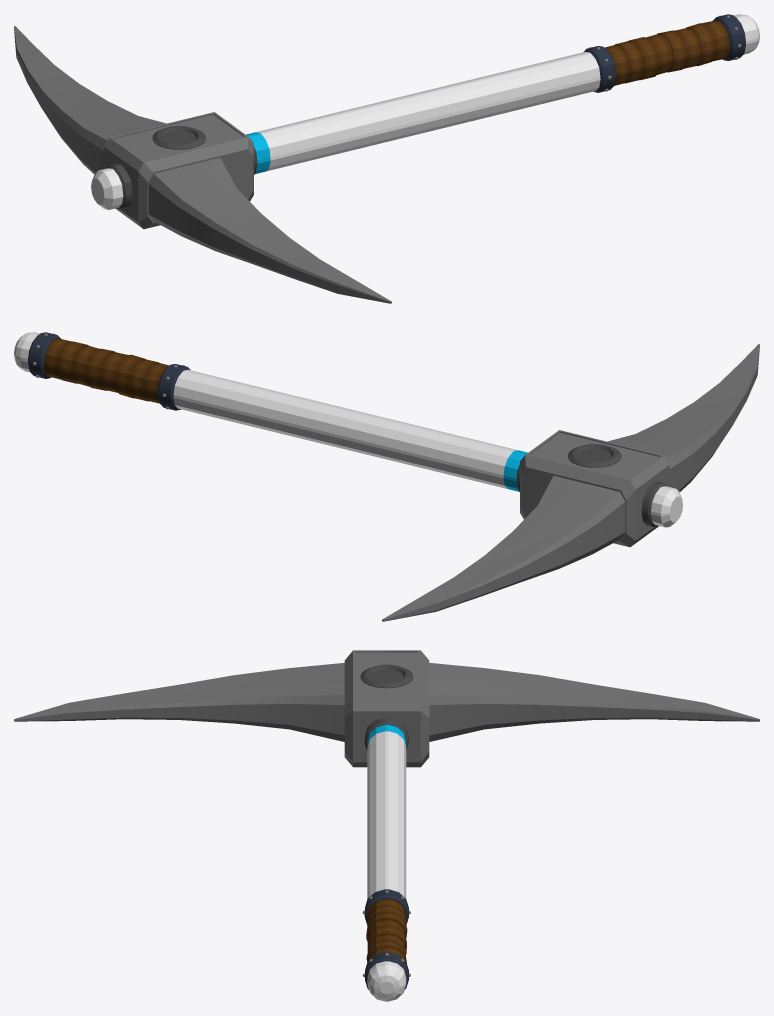
File: Pickaxe.fbx
3 renders of one model, top to bottom at view 1: azimuth 30°, elevation 25°; view 2: azimuth 150°, elevation 25°; view 3: azimuth 270°, elevation 25°, orthographic.
Visible parts, largest first — view 1: Pickaxe; view 2: Pickaxe; view 3: Pickaxe.
Part boxes in pixels (x1,y1,x2,y2): Pickaxe: (14, 14, 759, 303); Pickaxe: (14, 332, 759, 621); Pickaxe: (14, 650, 759, 1001).
Size of the model in its own units: 0.9294 by 0.0953 by 0.9221.
